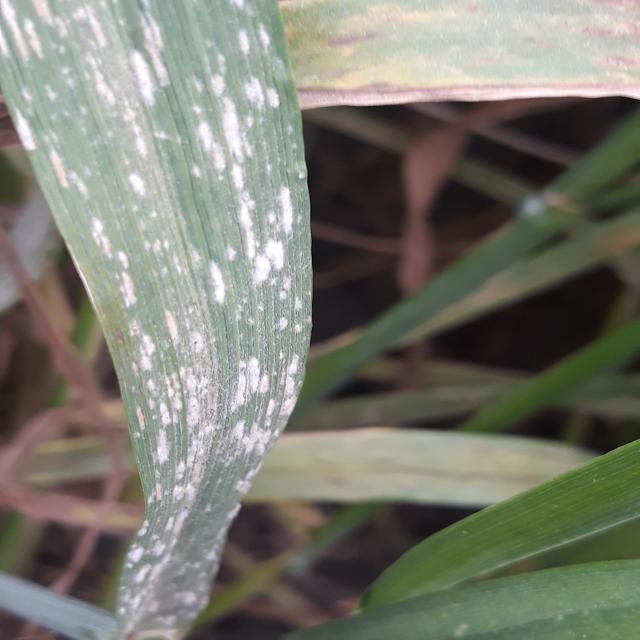powder_mildew: (0, 0, 312, 640), (293, 0, 640, 111)
